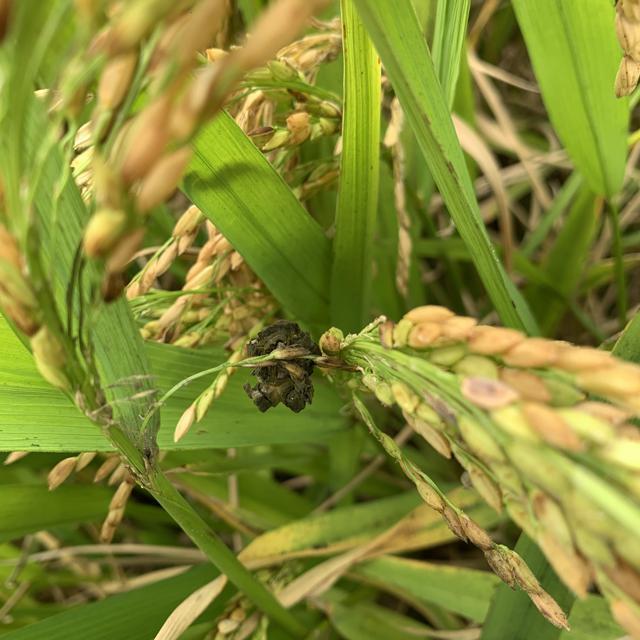Leaf_Scald: (241, 320, 324, 414)
